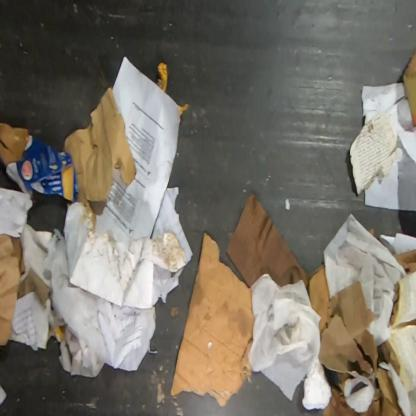cardboard: (61, 86, 188, 310), (308, 263, 415, 415), (170, 233, 255, 407), (226, 192, 310, 298), (0, 122, 79, 204), (402, 47, 415, 129), (392, 248, 415, 276), (368, 228, 375, 237)
